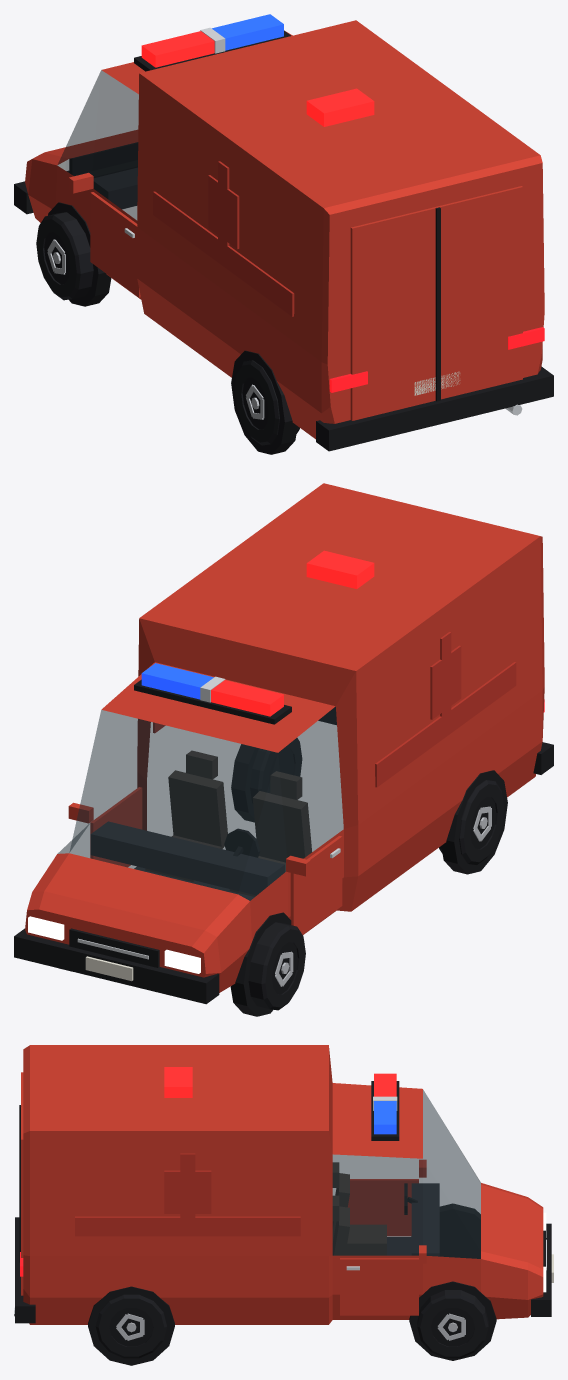
Rendered from ambulance.glb.
3 views of the same model, one above another, from view 1: azimuth 30°, elevation 25°; view 2: azimuth 150°, elevation 25°; view 3: azimuth 270°, elevation 25° (orthographic). The views are drawn at different scales.
Visible parts, largest first — view 1: ambulance, ambulance_wheel_fl, ambulance_door_fl, ambulance_wheel_rl; view 2: ambulance, ambulance_wheel_fl, ambulance_door_fl, ambulance_wheel_rl, ambulance_wheel_rr, ambulance_door_fr; view 3: ambulance, ambulance_door_fr, ambulance_wheel_fr, ambulance_wheel_rr, ambulance_door_fl.
Boxes of the visible parts, left/top/right/bottom form: ambulance: left=14, top=14, right=553, bottom=454; ambulance_wheel_fl: left=36, top=212, right=93, bottom=300; ambulance_door_fl: left=90, top=192, right=140, bottom=297; ambulance_wheel_rl: left=234, top=360, right=299, bottom=445; ambulance: left=14, top=483, right=553, bottom=1016; ambulance_wheel_fl: left=248, top=922, right=305, bottom=1010; ambulance_door_fl: left=290, top=836, right=342, bottom=934; ambulance_wheel_rl: left=439, top=780, right=504, bottom=864; ambulance_wheel_rr: left=250, top=738, right=302, bottom=804; ambulance_door_fr: left=90, top=787, right=142, bottom=867; ambulance: left=14, top=1045, right=553, bottom=1365; ambulance_door_fr: left=340, top=1258, right=418, bottom=1315; ambulance_wheel_fr: left=417, top=1290, right=488, bottom=1358; ambulance_wheel_rr: left=95, top=1294, right=167, bottom=1358; ambulance_door_fl: left=348, top=1179, right=418, bottom=1236.
Size of the model in its own units: 2.36 by 2.87 by 5.74.
